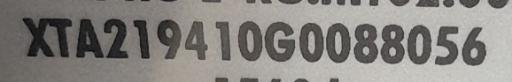letter: (260, 19, 298, 62), (72, 13, 106, 60), (20, 14, 56, 58), (432, 19, 464, 65), (234, 17, 266, 62), (180, 19, 212, 63), (128, 15, 158, 60), (46, 15, 76, 59), (296, 19, 326, 63), (324, 19, 354, 63), (460, 23, 490, 66), (155, 16, 183, 62), (100, 14, 128, 59), (379, 20, 407, 65), (406, 20, 434, 65), (352, 20, 380, 64), (212, 16, 236, 61)
